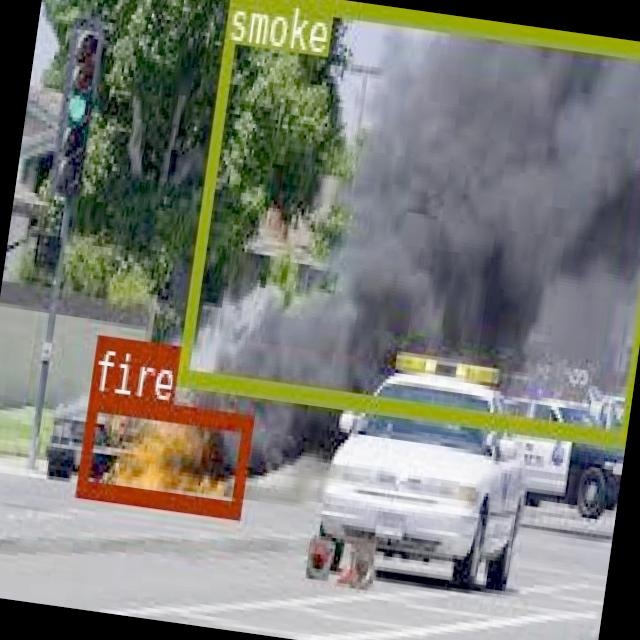fire: (75, 390, 252, 518)
smoke: (173, 0, 640, 445)
